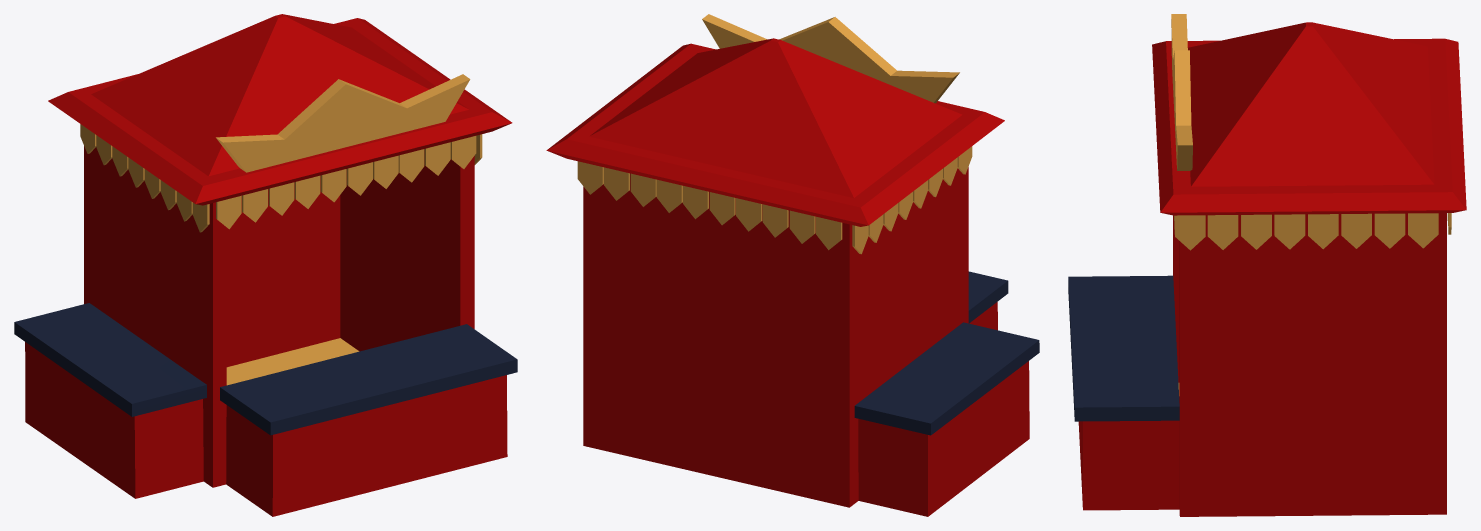
Rendered from F_Shop_03.fbx.
3 renders of one model, left to right at view 1: azimuth 30°, elevation 25°; view 2: azimuth 150°, elevation 25°; view 3: azimuth 270°, elevation 25°, orthographic. The views are drawn at different scales.
Parts seen in each view (by area): view 1: F_Shop_03; view 2: F_Shop_03; view 3: F_Shop_03.
Boxes of the visible parts, <box> form: F_Shop_03: <box>14,14,517,516</box>; F_Shop_03: <box>546,14,1039,516</box>; F_Shop_03: <box>1068,14,1466,516</box>.
Size of the model in its own units: 302 by 304 by 260.
Materials: 1 (1 with a texture image).
